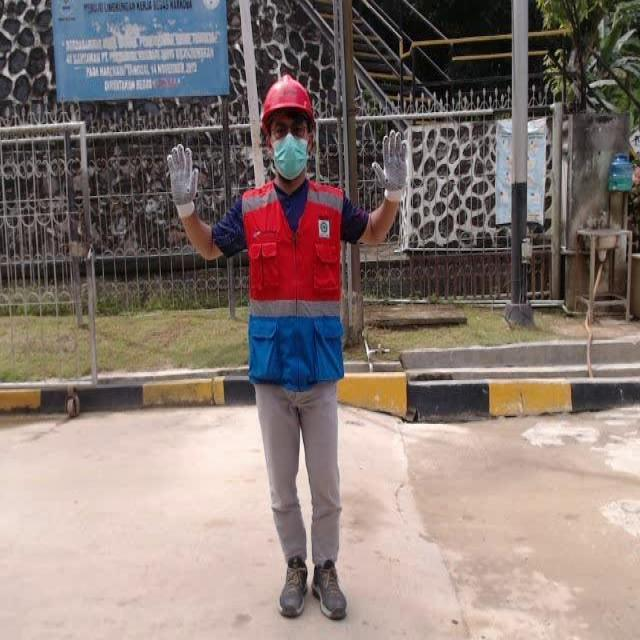helmet: (258, 74, 317, 120)
